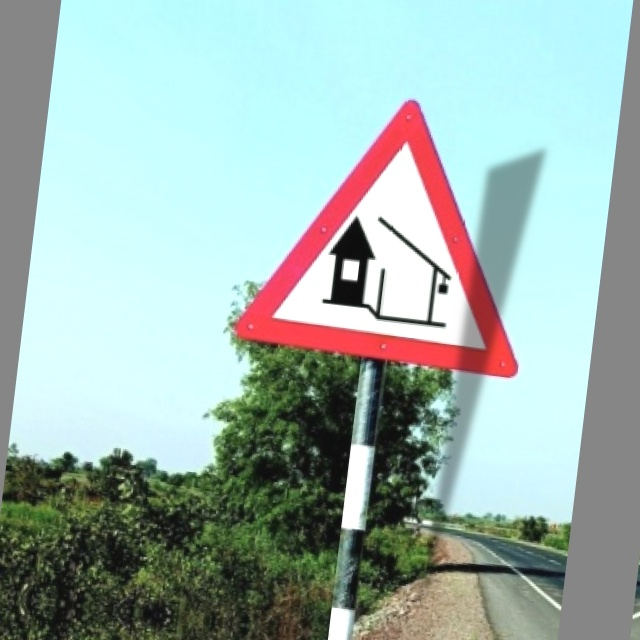Barrier_Ahead: (233, 85, 549, 383)
